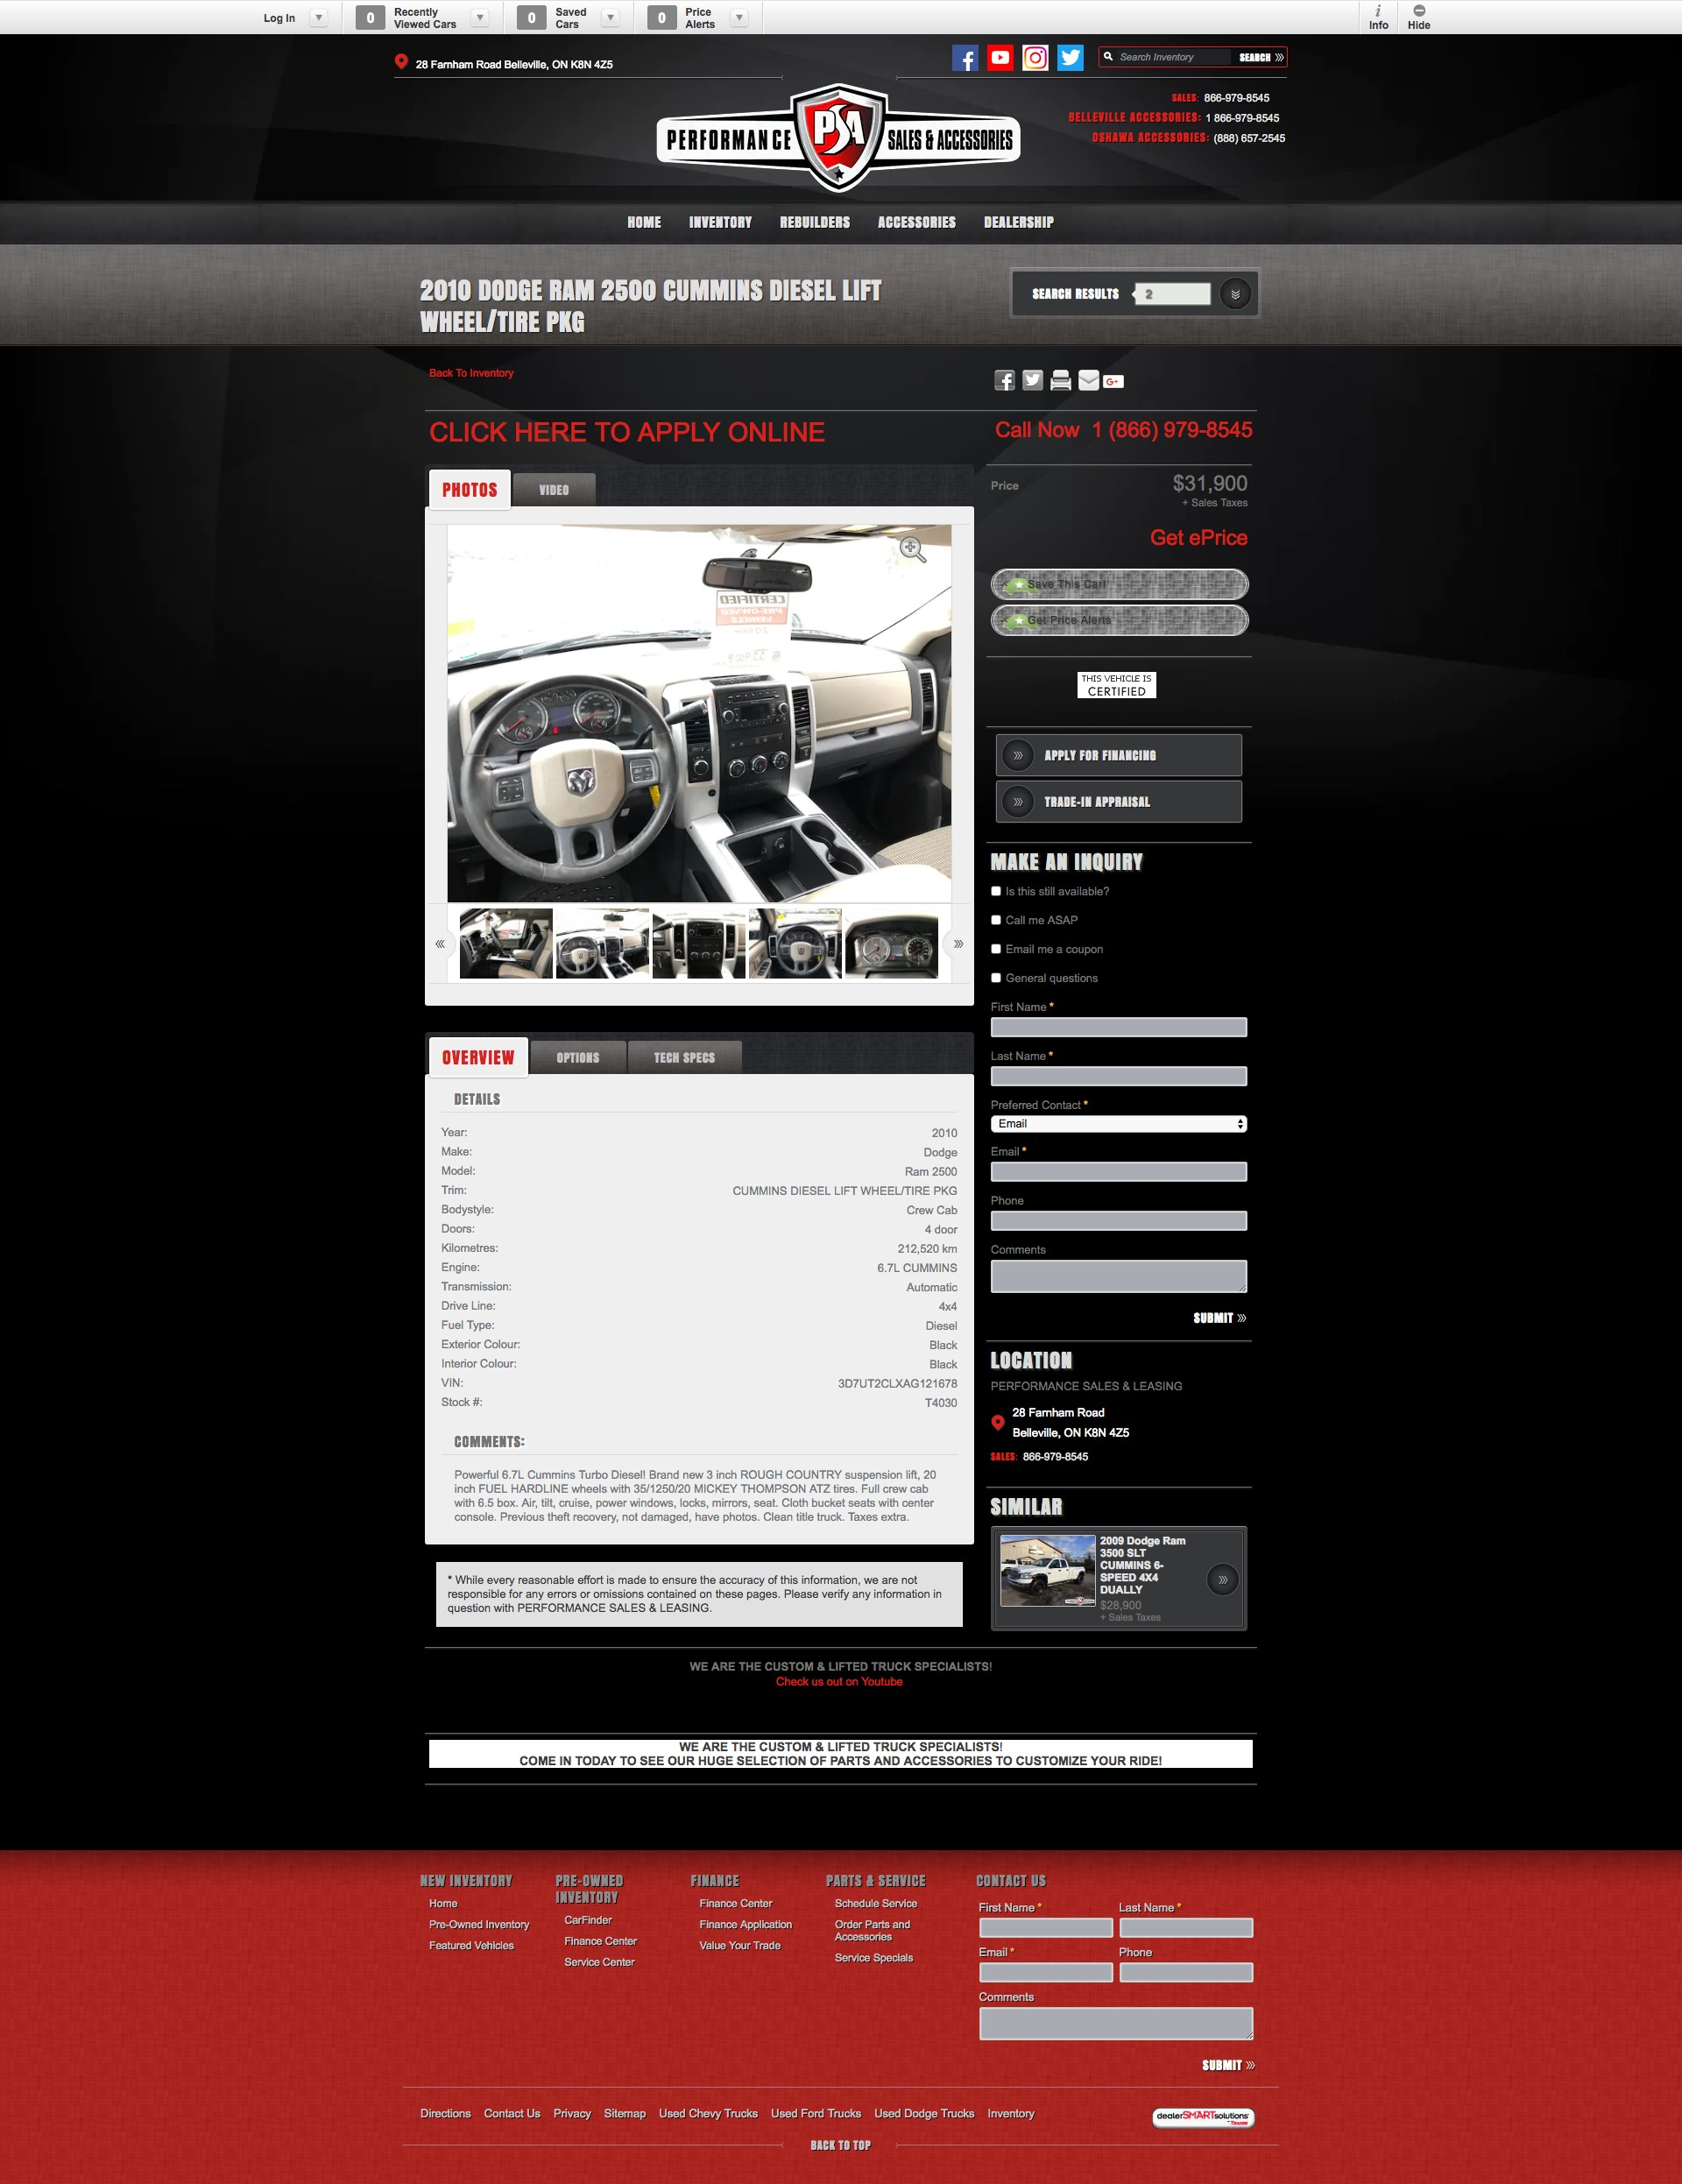car: (954, 938, 965, 949)
